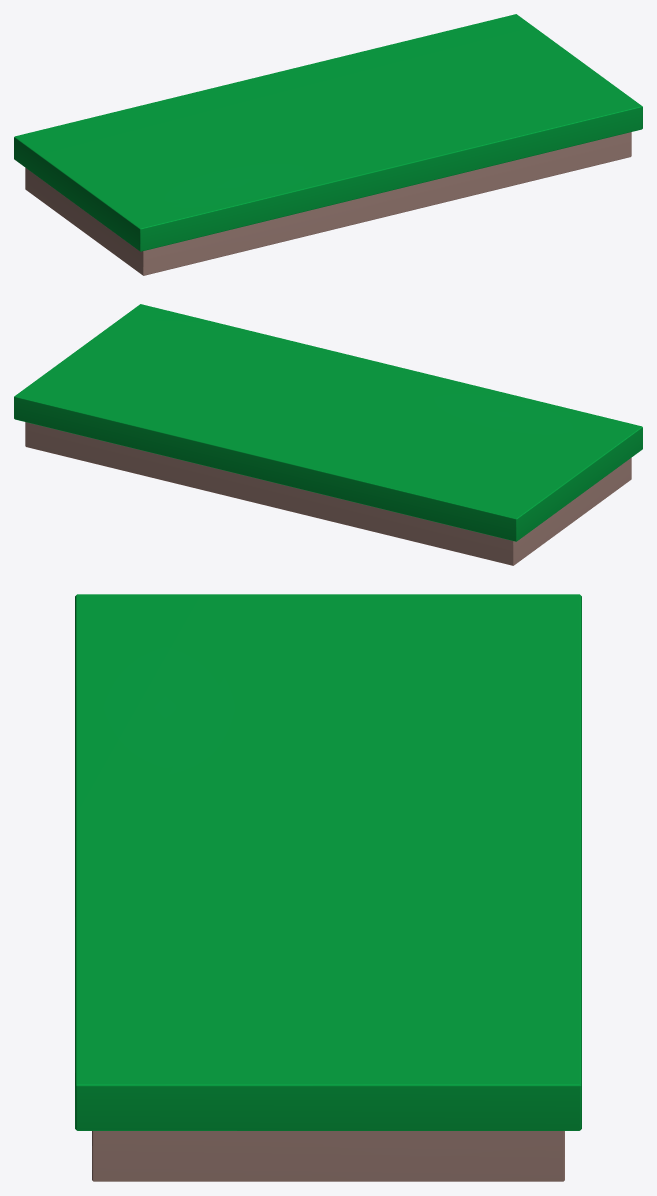
File: Farm_8_Base_1.glb
The picture shows the model from 3 angles, top to bottom: view 1: azimuth 30°, elevation 25°; view 2: azimuth 150°, elevation 25°; view 3: azimuth 270°, elevation 25°; orthographic projection. The views are drawn at different scales.
Visible parts, largest first — view 1: Farm_8_Base_1; view 2: Farm_8_Base_1; view 3: Farm_8_Base_1.
Part boxes in pixels (x1,y1,x2,y2): Farm_8_Base_1: [14, 14, 642, 275]; Farm_8_Base_1: [14, 304, 642, 565]; Farm_8_Base_1: [75, 594, 581, 1181].
Bounding box in the file's own units: 25.69 × 2.55 × 11.2.
1 material, 1 textured.
